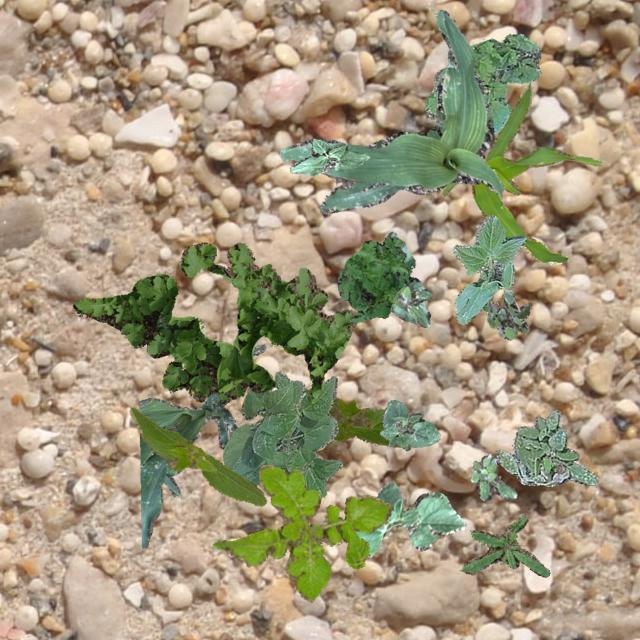crop: (278, 9, 502, 212), (442, 82, 600, 264), (138, 343, 264, 548), (222, 370, 342, 496), (130, 406, 266, 504), (354, 480, 464, 556), (452, 214, 524, 324), (304, 386, 388, 444), (386, 230, 429, 322), (378, 398, 438, 449), (288, 138, 368, 174)
weed: (71, 242, 356, 406), (212, 464, 390, 602), (424, 32, 540, 132), (496, 408, 598, 486), (336, 236, 408, 322), (459, 514, 548, 576), (482, 288, 528, 338), (470, 452, 516, 500), (394, 284, 432, 326)
